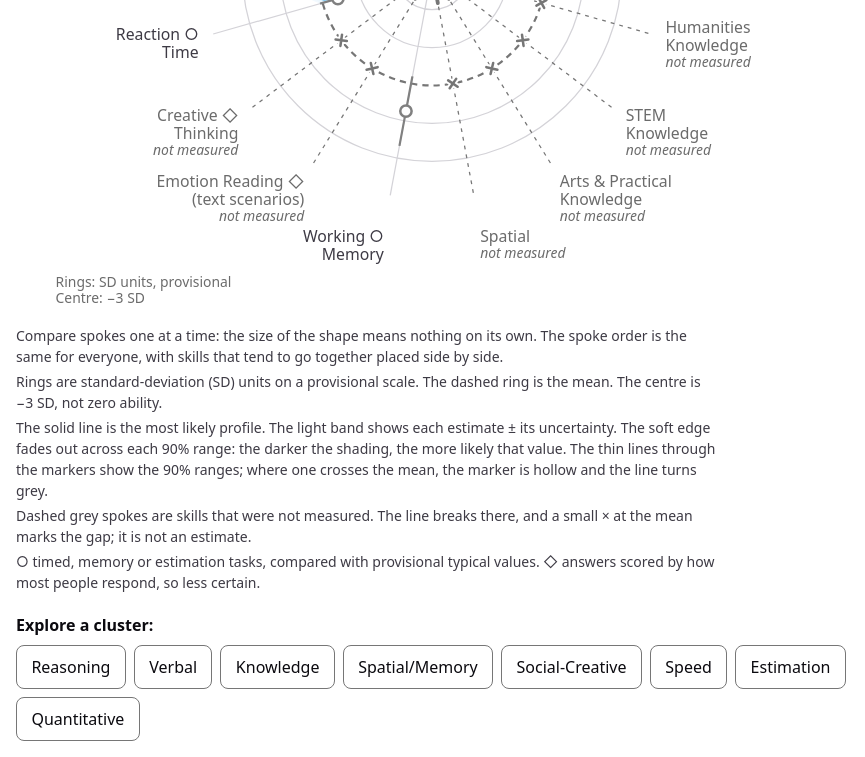
Scenario: drill-down to facets (§9.6, A7, A12: ≥ 5 items) › facets of a skipped axis read "not measured (skipped)"
This screenshot has width=865, height=757.
(page scrolled)
Click the button "Spatial/Memory": (418, 667) [343,645,493,689]
(page scrolled)
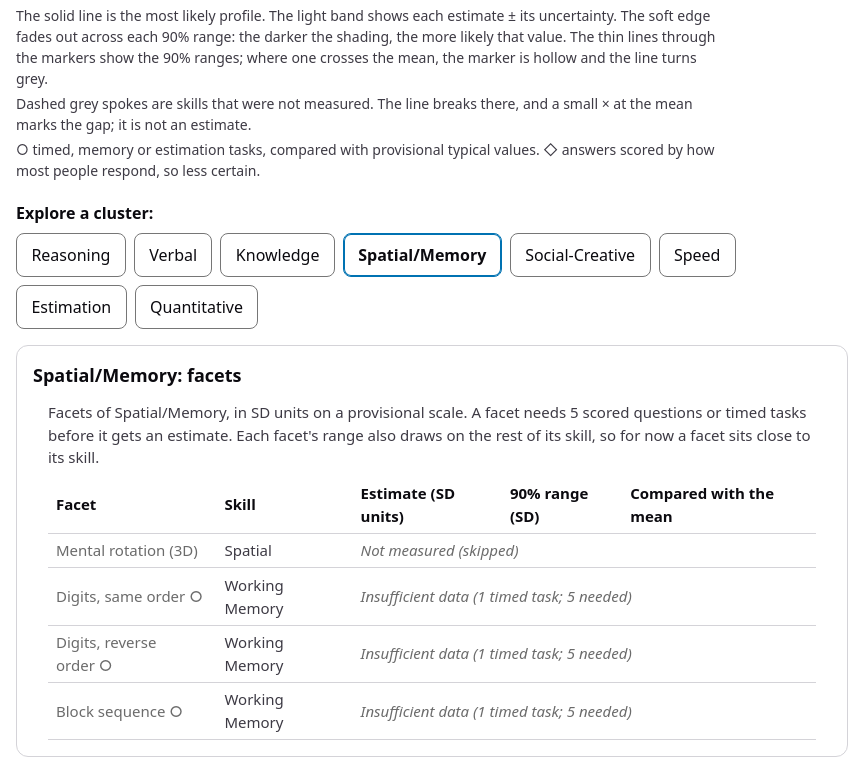
Expected: the cell with class "stub" reads "Not measured (skipped)", [360,540,518,560]
